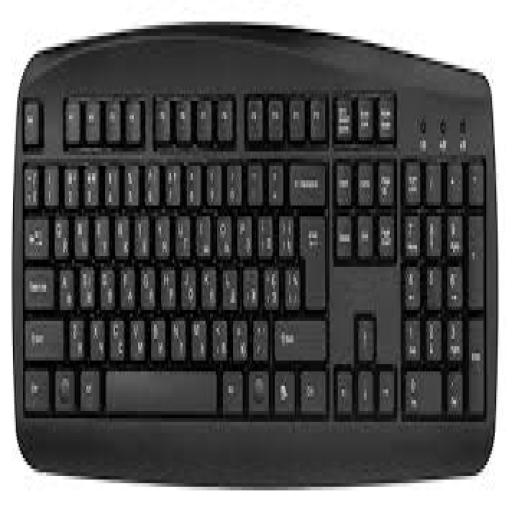KEYBOARD-2: (12, 25, 495, 483)
